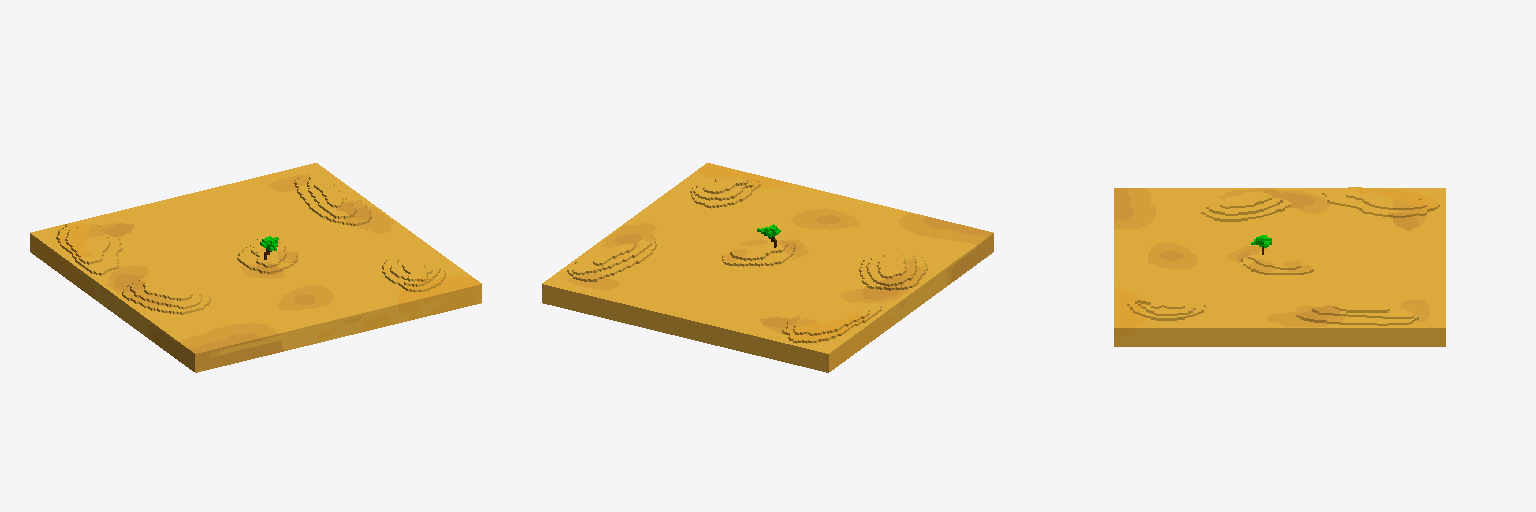
3 renders of one model, left to right at view 1: azimuth 30°, elevation 25°; view 2: azimuth 150°, elevation 25°; view 3: azimuth 270°, elevation 25°, orthographic.
Parts seen in each view (by area): view 1: object 1; view 2: object 1; view 3: object 1.
Part boxes in pixels (left/top/right/bottom): object 1: left=30, top=163, right=481, bottom=372; object 1: left=542, top=163, right=993, bottom=372; object 1: left=1114, top=187, right=1445, bottom=346.
Bounding box in the file's own units: 12.6 × 1.8 × 12.6.
1 materials, 1 textured.